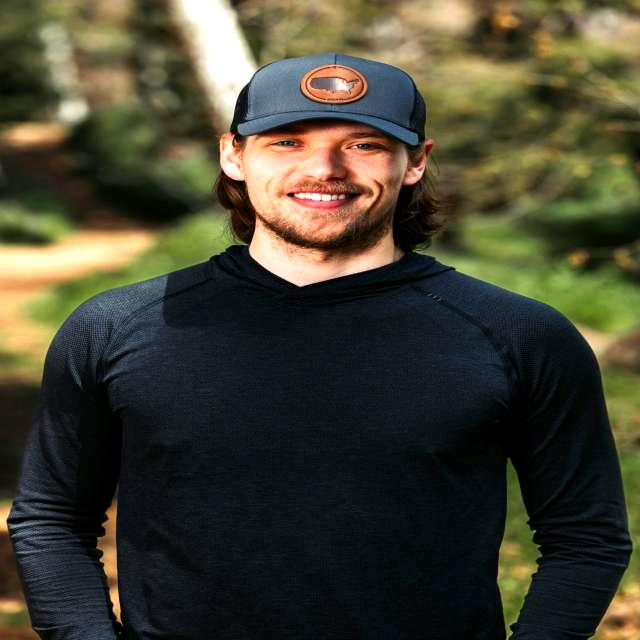no_hard_hat: (230, 54, 426, 146)
person: (7, 55, 631, 640)
